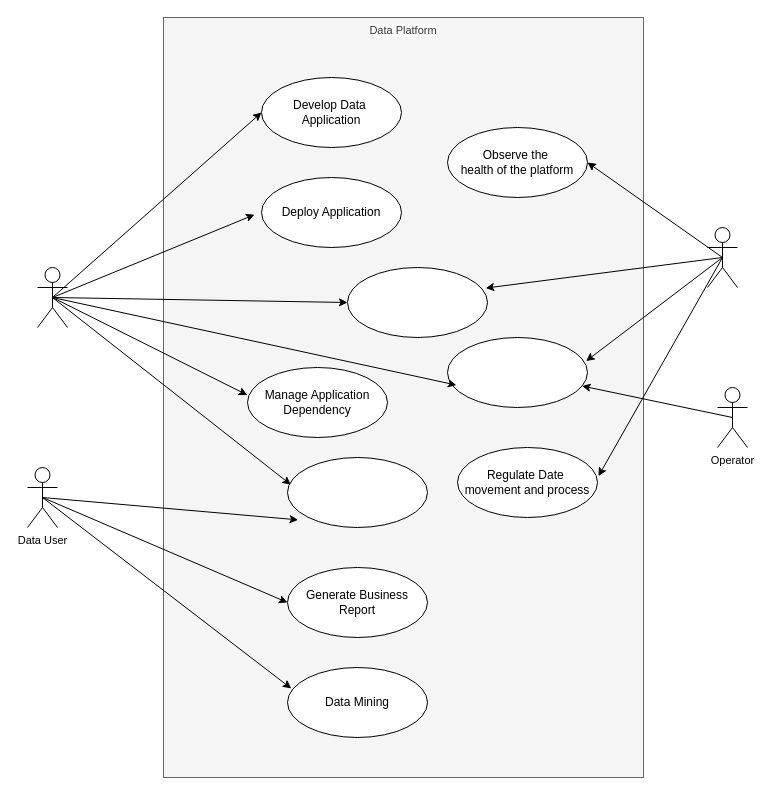
This 771x795 diagram has some shape labels left out. The shapes that lost their labels are listed below. From the top down, each one's centre as x and y in pixels, then its label:
At point 722,257: "Manager".
At point 52,297: "Developer".
At point 417,302: "Control data quality".
At point 517,372: "Handle Incident".
At point 357,492: "Explore Data".
